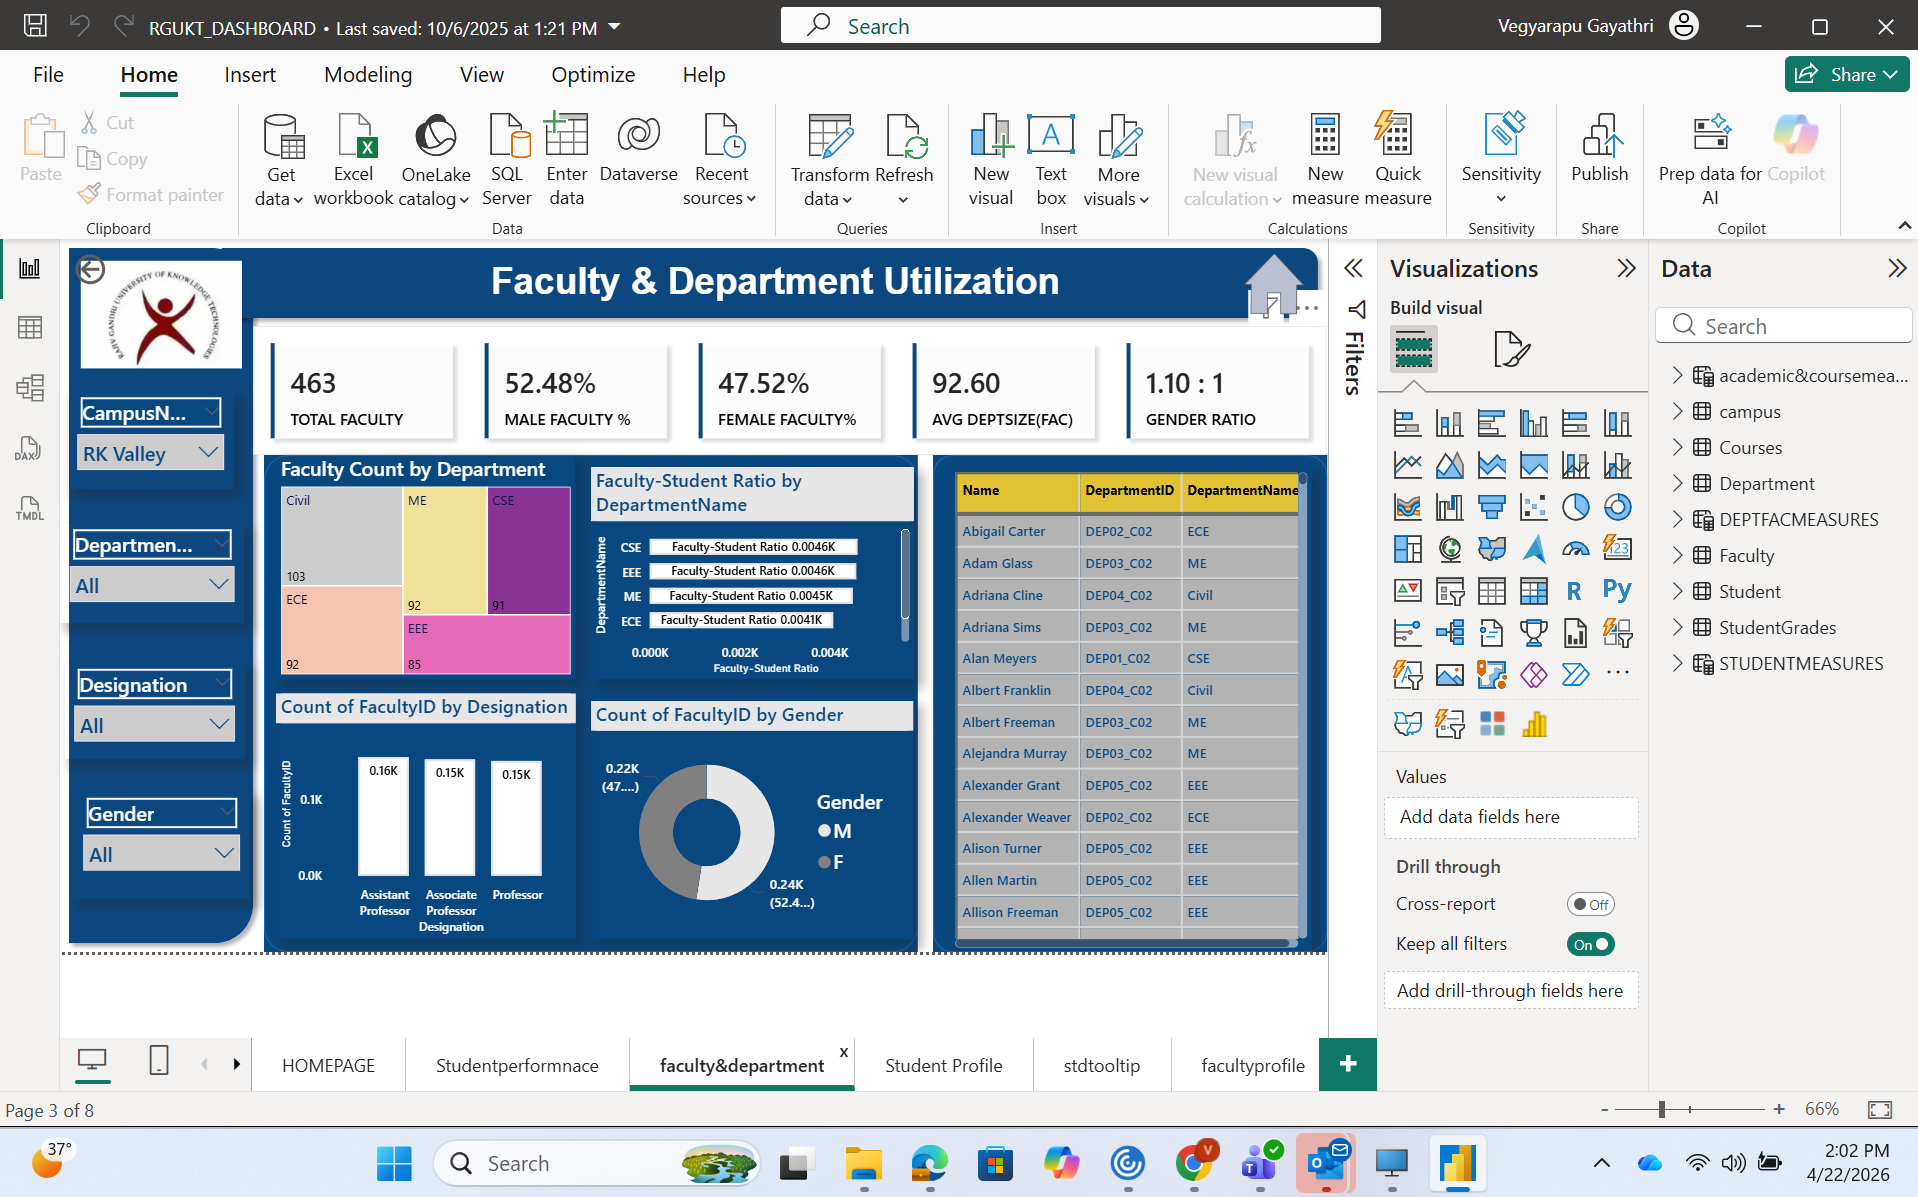

Layout of this report page (visuals, bound fields, positions):
{"tool":"powerbi","page":{"name":"faculty&department","canvas":[1280,720],"ordinal":2},"visuals":[{"type":"shape","box":[0,0,204.1,720],"z":0},{"type":"shape","box":[155,0,1124.4,88.8],"z":1000},{"type":"image","box":[13.2,17,177.6,119.1],"z":2000},{"type":"textbox","box":[175.7,15.1,1103.6,60.5],"z":3000},{"type":"cardVisual","fields":{"Data":["DEPTFACMEASURES.TOTAL FACULTY","DEPTFACMEASURES.Male Faculty %","DEPTFACMEASURES.Female Faculty %","DEPTFACMEASURES.AVG DEPTSIZE(FACULTY)","DEPTFACMEASURES.Gender Ratio Text"]},"box":[196,88,1082,130],"z":4000},{"type":"shape","box":[206,218,660,502],"z":5000},{"type":"donutChart","fields":{"Category":["Faculty.Gender"],"Y":["CountNonNull(Faculty.FacultyID)"]},"box":[536.7,466.8,325,240],"z":6000},{"type":"barChart","fields":{"Category":["Department.DepartmentName"],"Y":["DEPTFACMEASURES.1Faculty-Student Ratio"]},"box":[536,230,326,214],"z":7000},{"type":"treemap","title":"Faculty Count by Department","fields":{"Group":["Department.DepartmentName"],"Values":["CountNonNull(Faculty.FacultyID)"]},"box":[218,218,302,226],"z":8000},{"type":"columnChart","fields":{"Category":["Faculty.Designation"],"Y":["CountNonNull(Faculty.FacultyID)"]},"box":[217.3,459.2,302.4,247.6],"z":9000},{"type":"slicer","fields":{"Values":["campus.CampusName"]},"box":[8,154,168,98],"z":10000},{"type":"slicer","fields":{"Values":["Department.DepartmentName"]},"box":[0,288,186,100],"z":11000},{"type":"slicer","fields":{"Values":["Faculty.Gender"]},"box":[14,558,178,108],"z":12000},{"type":"slicer","fields":{"Values":["Faculty.Designation"]},"box":[4,428,182,96],"z":13000},{"type":"actionButton","box":[10,10,100,40],"z":14000},{"type":"shape","box":[882,218,398,502],"z":15000},{"type":"tableEx","fields":{"Values":["Faculty.Name","Department.DepartmentID","Department.DepartmentName"]},"box":[898,230,366,490],"z":16000},{"type":"image","box":[1173.6,7.6,103.9,75.6],"z":17000}]}

Visuals, with their boxes on the page's 1280x720 design canvas (x1, y1, x2, y2). These are canvas units, not pixel positions in the 1918x1197 screenshot, which may show the page scaled, cropped or inside an application window:
shape: BBox(0, 0, 204, 720)
shape: BBox(155, 0, 1279, 89)
image: BBox(13, 17, 191, 136)
textbox: BBox(176, 15, 1279, 76)
cardVisual - DEPTFACMEASURES.TOTAL FACULTY x DEPTFACMEASURES.Male Faculty %: BBox(196, 88, 1278, 218)
shape: BBox(206, 218, 866, 720)
donutChart - Faculty.Gender x CountNonNull(Faculty.FacultyID): BBox(537, 467, 862, 707)
barChart - Department.DepartmentName x DEPTFACMEASURES.1Faculty-Student Ratio: BBox(536, 230, 862, 444)
"Faculty Count by Department" treemap: BBox(218, 218, 520, 444)
columnChart - Faculty.Designation x CountNonNull(Faculty.FacultyID): BBox(217, 459, 520, 707)
slicer - campus.CampusName: BBox(8, 154, 176, 252)
slicer - Department.DepartmentName: BBox(0, 288, 186, 388)
slicer - Faculty.Gender: BBox(14, 558, 192, 666)
slicer - Faculty.Designation: BBox(4, 428, 186, 524)
actionButton: BBox(10, 10, 110, 50)
shape: BBox(882, 218, 1280, 720)
tableEx - Faculty.Name x Department.DepartmentID: BBox(898, 230, 1264, 720)
image: BBox(1174, 8, 1278, 83)
